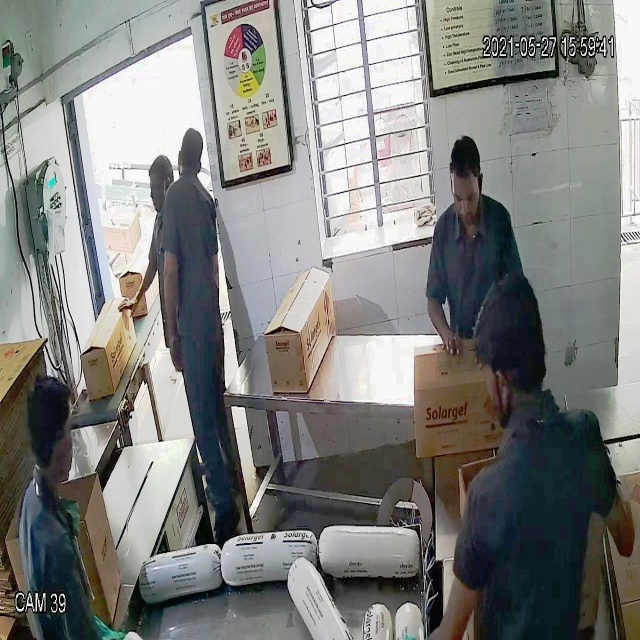Sin_gafas: (446, 181, 485, 212)
